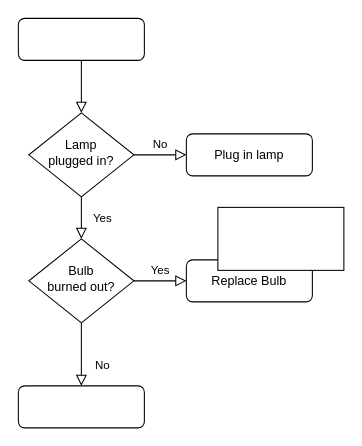
This 362x446 diagram has some shape labels left out. Each missing label, with the centre of its shape:
Repair Lamp: [80,406]
Sla integer a op: [80,38]
